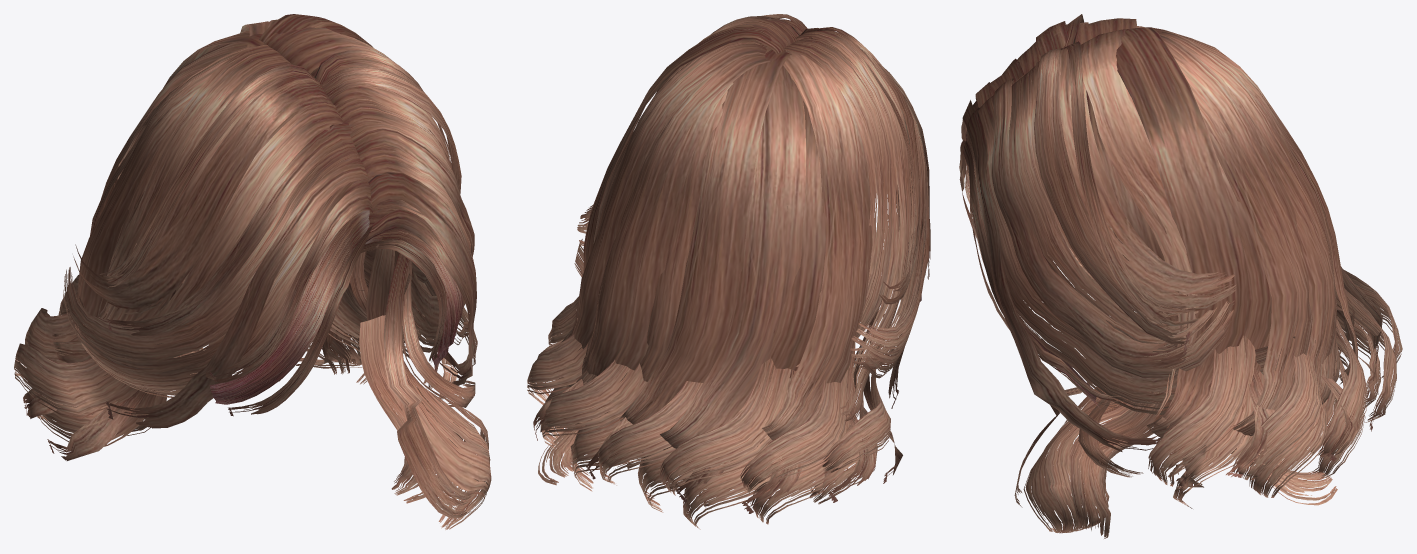
File: mh_elvs_ashley_may_hair.glb
3 views of the same model, side by side, from view 1: azimuth 30°, elevation 25°; view 2: azimuth 150°, elevation 25°; view 3: azimuth 270°, elevation 25° (orthographic). The views are drawn at different scales.
Visible parts, largest first — view 1: mh_elvs_ashley_may_hair; view 2: mh_elvs_ashley_may_hair; view 3: mh_elvs_ashley_may_hair.
Part boxes in pixels (x1,y1,x2,y2): mh_elvs_ashley_may_hair: [14, 14, 491, 529]; mh_elvs_ashley_may_hair: [527, 14, 930, 529]; mh_elvs_ashley_may_hair: [959, 14, 1402, 538].
Bounding box in the file's own units: 0.3087 × 0.3685 × 0.3219.
Materials: 1 (1 with a texture image).
